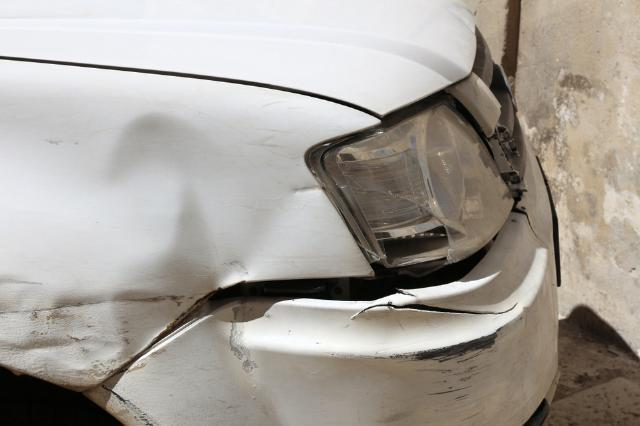Bumper: (157, 268, 568, 426)
Fender: (16, 72, 365, 306)
